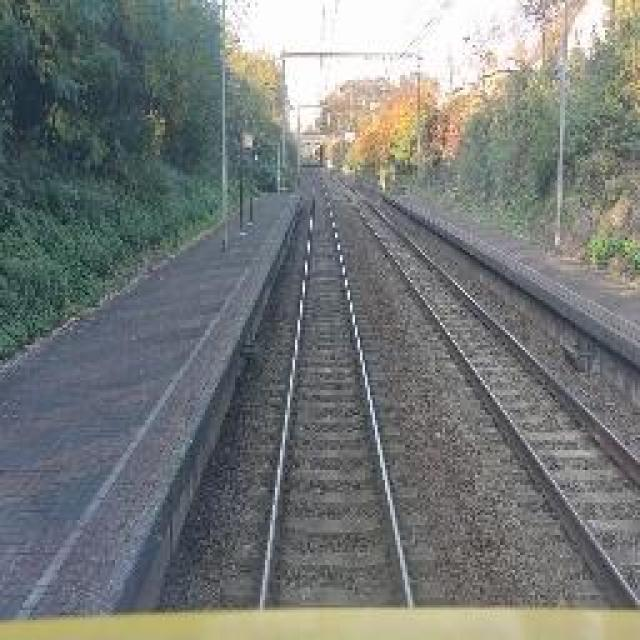rail: (220, 164, 442, 611)
